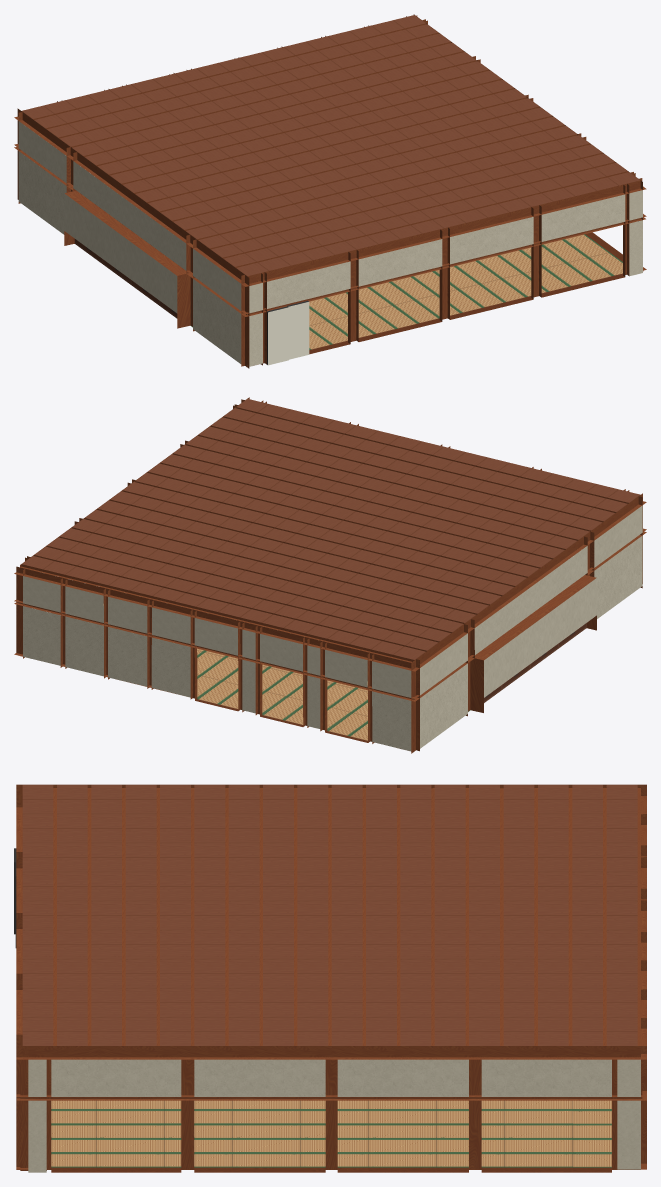
File: MAP_re.fbx
3 views of the same model, one above another, from view 1: azimuth 30°, elevation 25°; view 2: azimuth 150°, elevation 25°; view 3: azimuth 270°, elevation 25° (orthographic). The views are drawn at different scales.
Parts seen in each view (by area): view 1: tenjyou, kabe, tatami, tenjyou_hasira, hasira_yoko, hasira_tate, yuka_ki, husuma_01, husuma_02, tana; view 2: tenjyou, kabe, tenjyou_hasira, hasira_yoko, hasira_tate, tatami, tana; view 3: tenjyou, tatami, kabe, tenjyou_hasira, hasira_yoko, hasira_tate, yuka_ki.
Part boxes in pixels (x1=…): tenjyou: x1=22, y1=15, x2=640, y2=276; kabe: x1=18, y1=121, x2=642, y2=366; tatami: x1=190, y1=234, x2=622, y2=349; tenjyou_hasira: x1=33, y1=23, x2=627, y2=267; hasira_yoko: x1=14, y1=14, x2=646, y2=366; hasira_tate: x1=17, y1=15, x2=642, y2=368; yuka_ki: x1=263, y1=232, x2=626, y2=363; husuma_01: x1=267, y1=306, x2=288, y2=365; husuma_02: x1=287, y1=300, x2=309, y2=359; tana: x1=74, y1=239, x2=177, y2=318; tenjyou: x1=22, y1=398, x2=640, y2=659; kabe: x1=23, y1=505, x2=642, y2=751; tenjyou_hasira: x1=20, y1=407, x2=628, y2=662; hasira_yoko: x1=14, y1=407, x2=646, y2=701; hasira_tate: x1=16, y1=397, x2=642, y2=753; tatami: x1=103, y1=604, x2=470, y2=741; tana: x1=484, y1=623, x2=586, y2=702; tenjyou: x1=22, y1=784, x2=637, y2=1045; tatami: x1=51, y1=1100, x2=611, y2=1167; kabe: x1=28, y1=1059, x2=640, y2=1172; tenjyou_hasira: x1=53, y1=788, x2=640, y2=1045; hasira_yoko: x1=16, y1=784, x2=646, y2=1170; hasira_tate: x1=16, y1=784, x2=646, y2=1169; yuka_ki: x1=47, y1=1167, x2=616, y2=1172.
Size of the model in its own units: 1669 by 356 by 1637.
